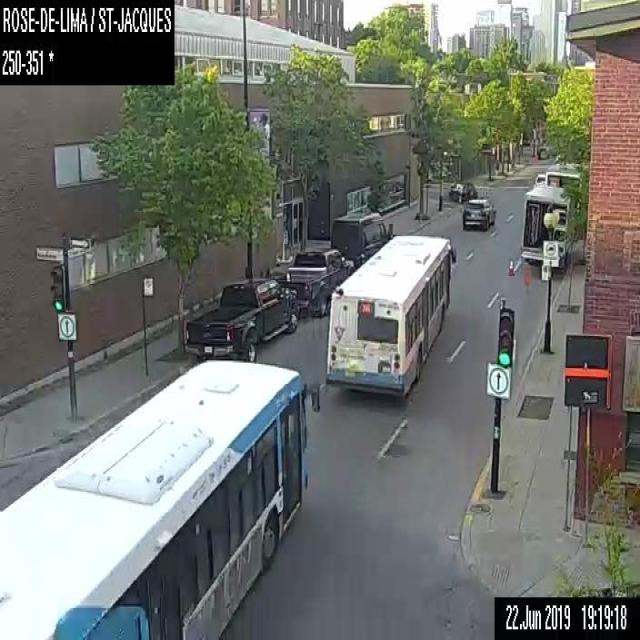bus: (0, 360, 320, 639), (326, 235, 451, 396)
construction: (507, 257, 515, 275)
vehicle: (181, 281, 300, 361), (520, 180, 579, 265), (280, 245, 350, 310), (333, 206, 392, 268), (460, 197, 491, 230), (449, 181, 477, 200)
